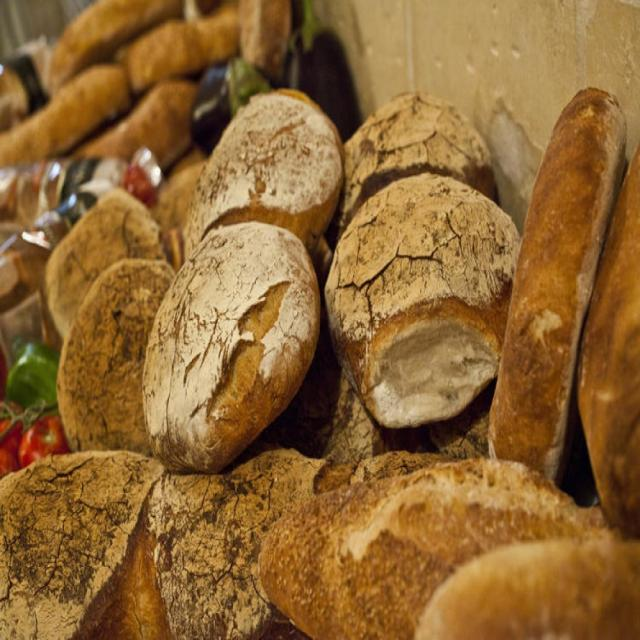Maltese-Bread: (325, 174, 520, 427), (144, 222, 320, 473), (147, 448, 324, 639), (0, 452, 161, 639), (185, 91, 343, 258), (335, 93, 496, 238), (57, 259, 175, 453), (45, 189, 165, 339)
